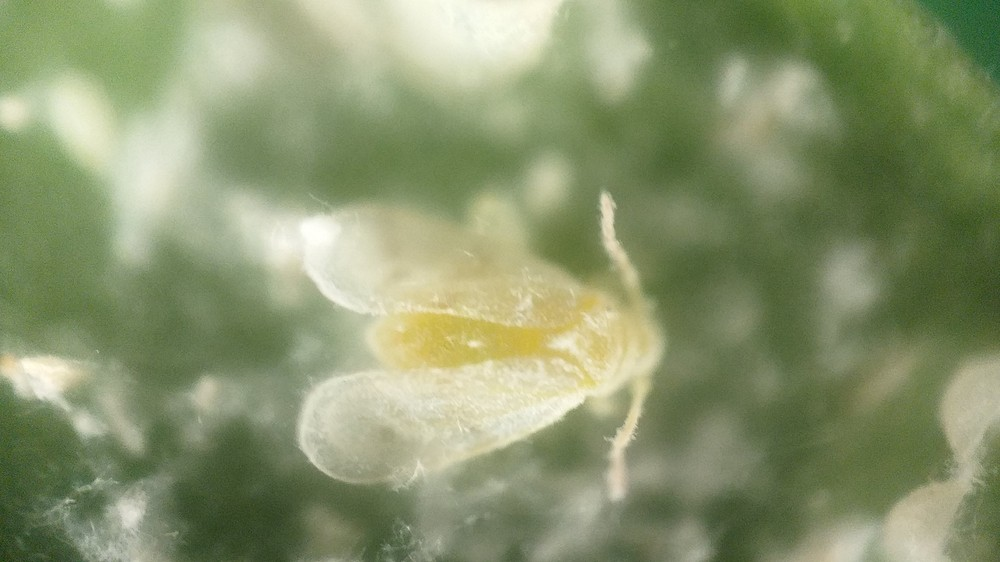Mosca Blanca: (273, 170, 687, 527)
